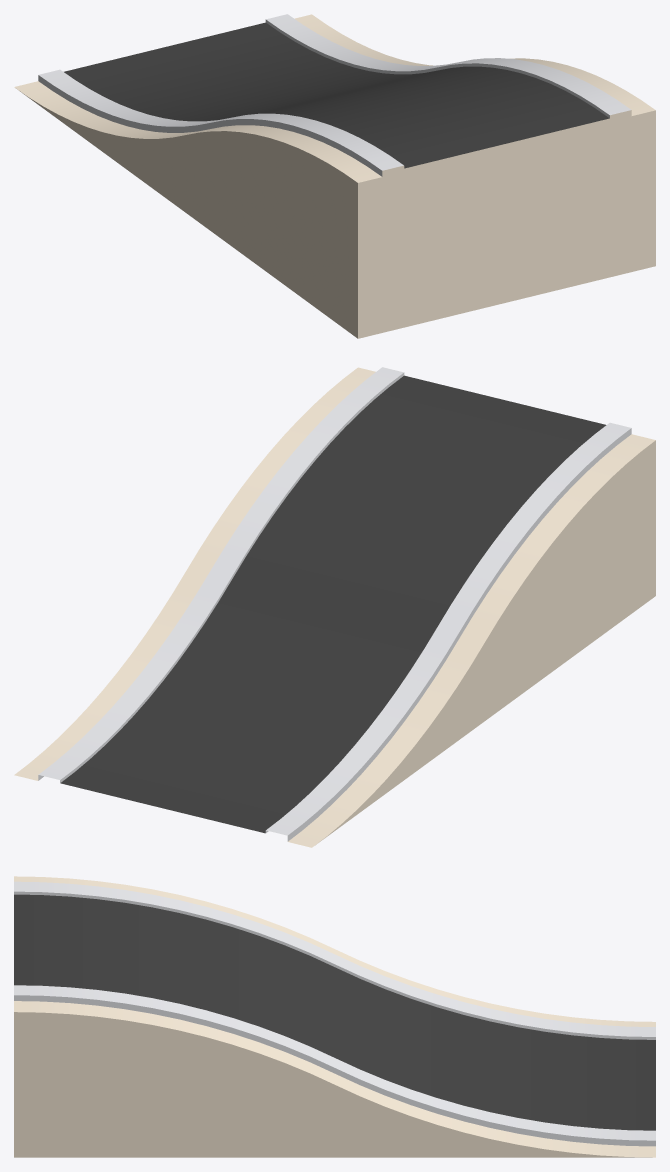
File: roadRampLongCurvedWall.obj
The picture shows the model from 3 angles, top to bottom: view 1: azimuth 30°, elevation 25°; view 2: azimuth 150°, elevation 25°; view 3: azimuth 270°, elevation 25°; orthographic projection. The views are drawn at different scales.
Parts seen in each view (by area): view 1: roadRampLongCurvedWall; view 2: roadRampLongCurvedWall; view 3: roadRampLongCurvedWall.
Part boxes in pixels (left/top/right/bottom): roadRampLongCurvedWall: left=14, top=14, right=655, bottom=338; roadRampLongCurvedWall: left=14, top=367, right=655, bottom=847; roadRampLongCurvedWall: left=14, top=876, right=655, bottom=1157.
Bounding box in the file's own units: 1 × 0.52 × 2.
